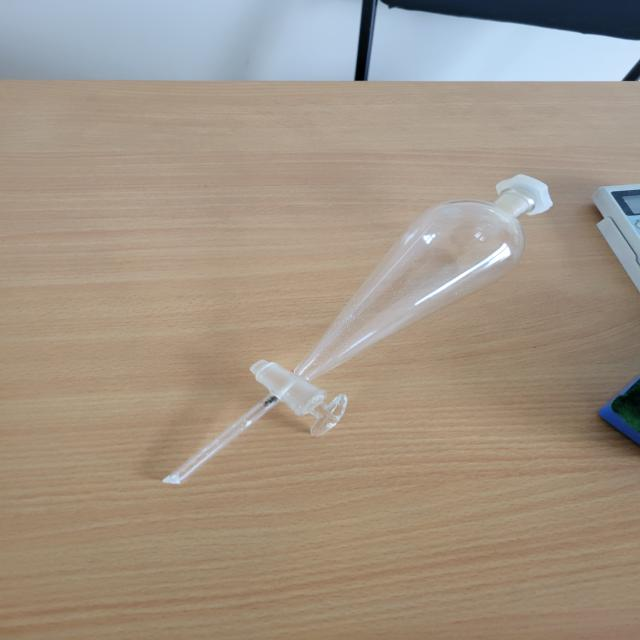Separating_Funnel: (123, 140, 568, 517)
